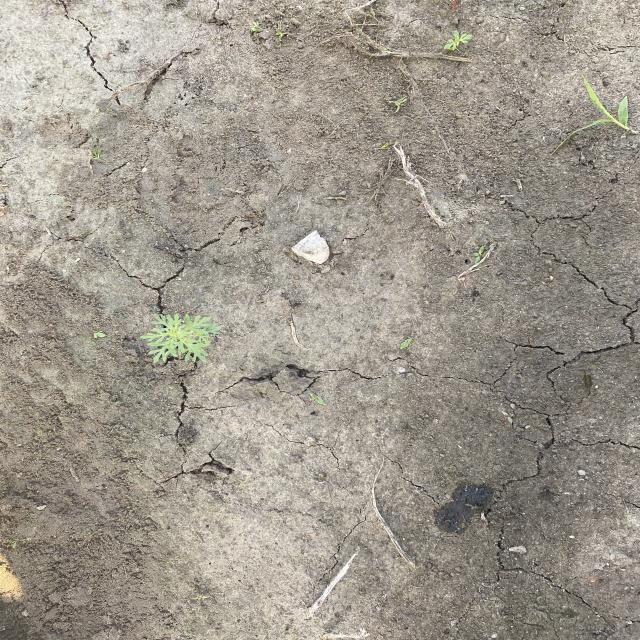Ragweed: (137, 312, 226, 366)
